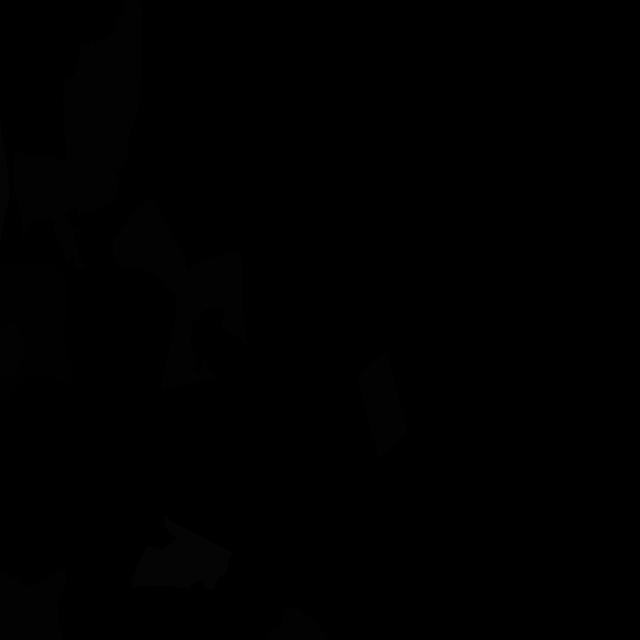cardboard: (113, 199, 249, 390), (62, 0, 142, 217), (13, 151, 86, 271), (357, 348, 408, 459), (0, 563, 68, 640), (265, 607, 330, 640), (0, 321, 25, 383)
rigid_plastic: (0, 261, 74, 404)
soft_plastic: (132, 516, 234, 591), (0, 119, 10, 259)
